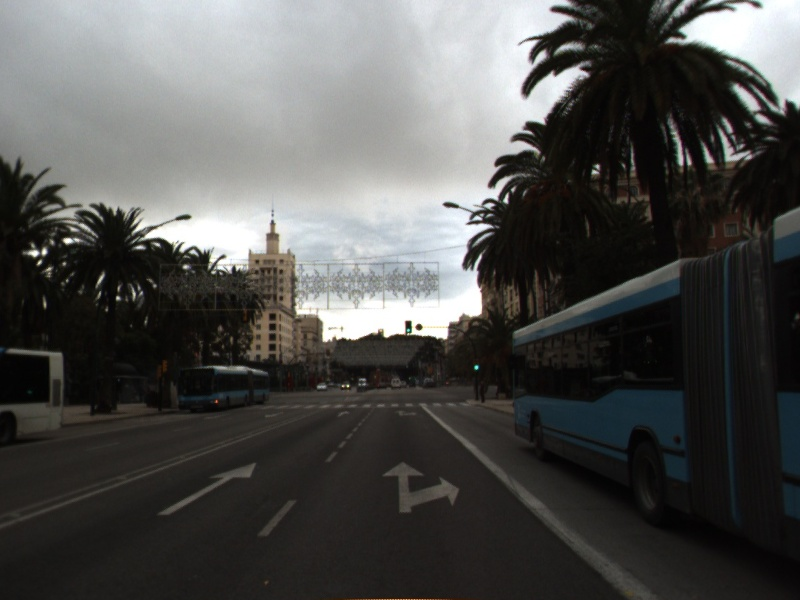STRAIGHT: (154, 460, 259, 518), (336, 409, 352, 418)
STRAIGHT_RIGHT: (379, 458, 463, 516), (393, 408, 418, 418)
